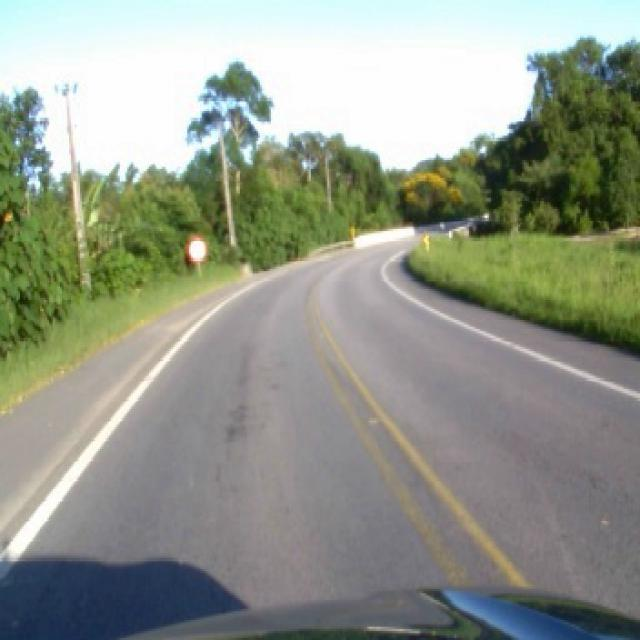Poth-hole: (369, 416, 380, 422)
